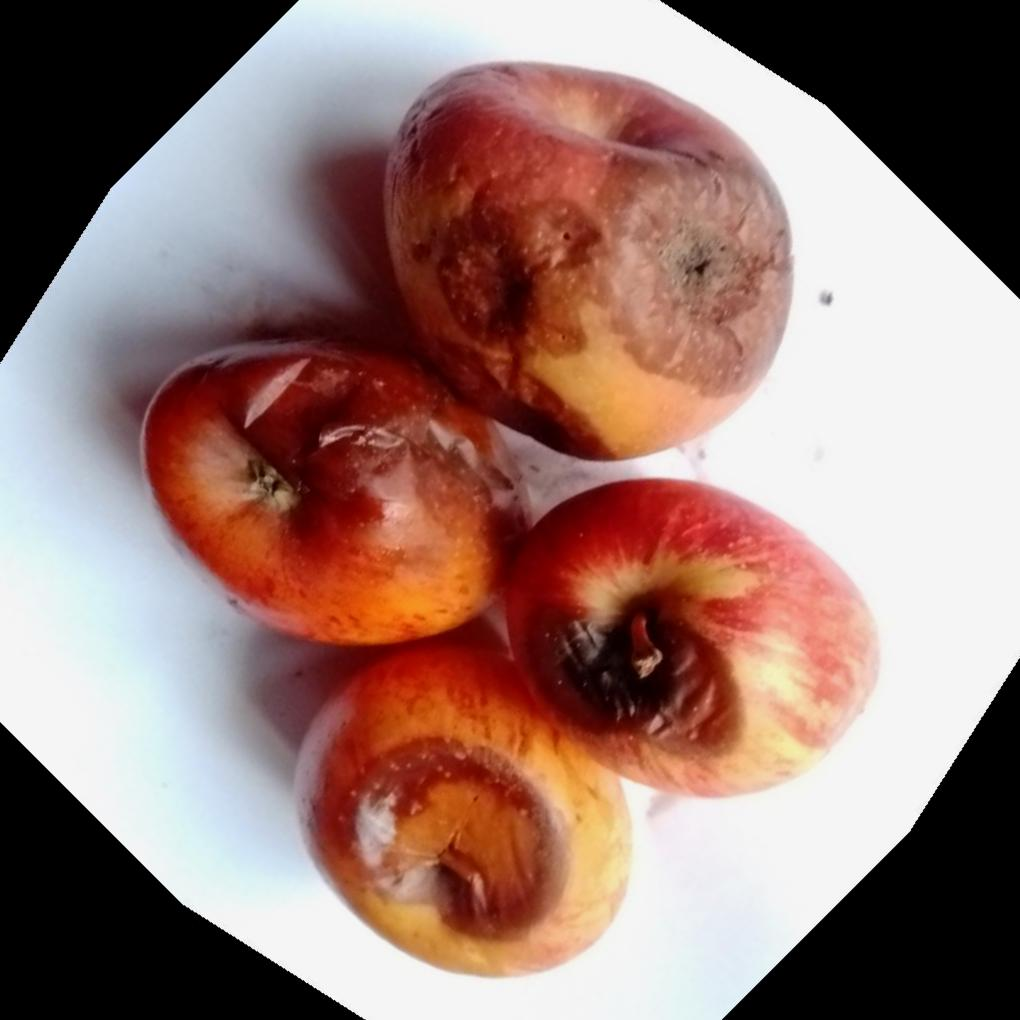FreshOrange: (143, 61, 882, 981)
